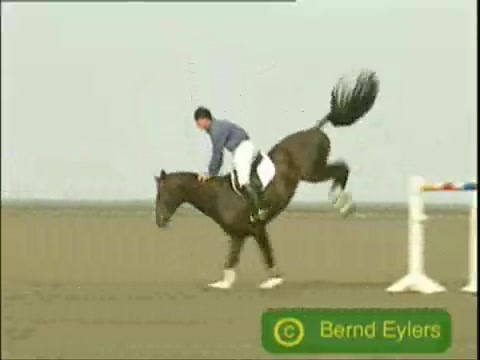horse: (155, 66, 381, 290)
